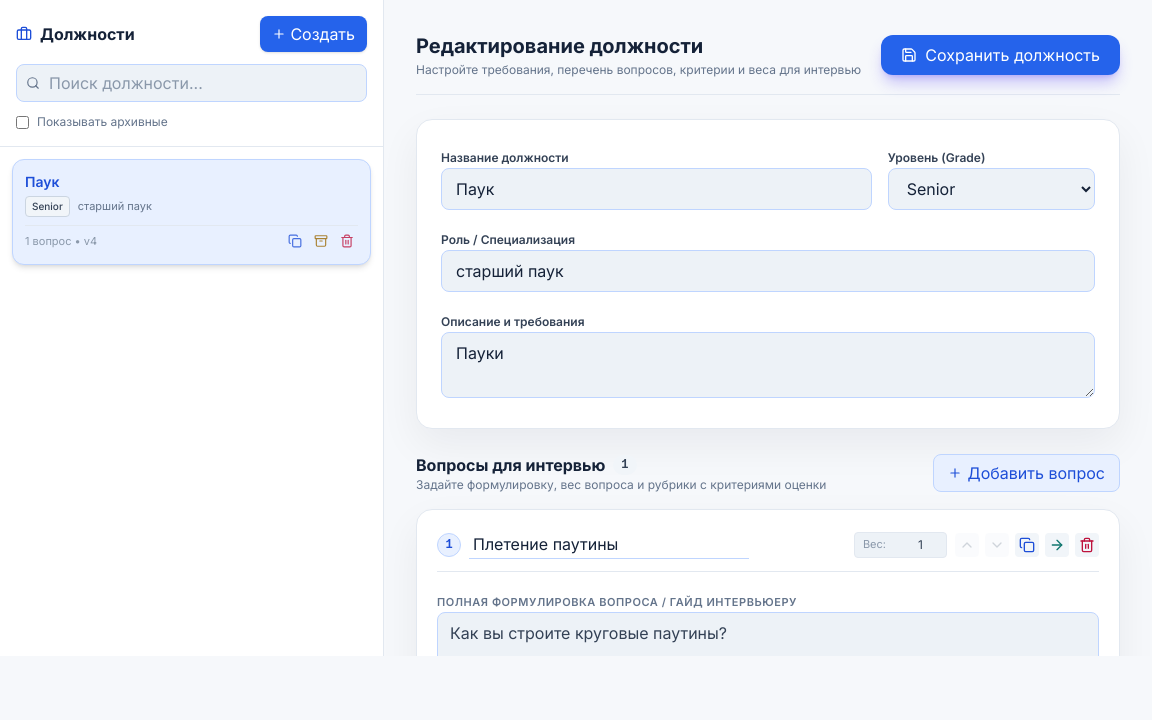
Test: JobTemplatesScreen Component › opens in-app delete modal when clicking trash icon and closes on "Отмена"
This screenshot has width=1152, height=720.
Expected: the heading "Редактирование должности" is shown, [416, 34, 703, 58]
// Click trash can button on card
Click the button titled "Удалить должность".
click(347, 241)  # box [336, 230, 358, 252]
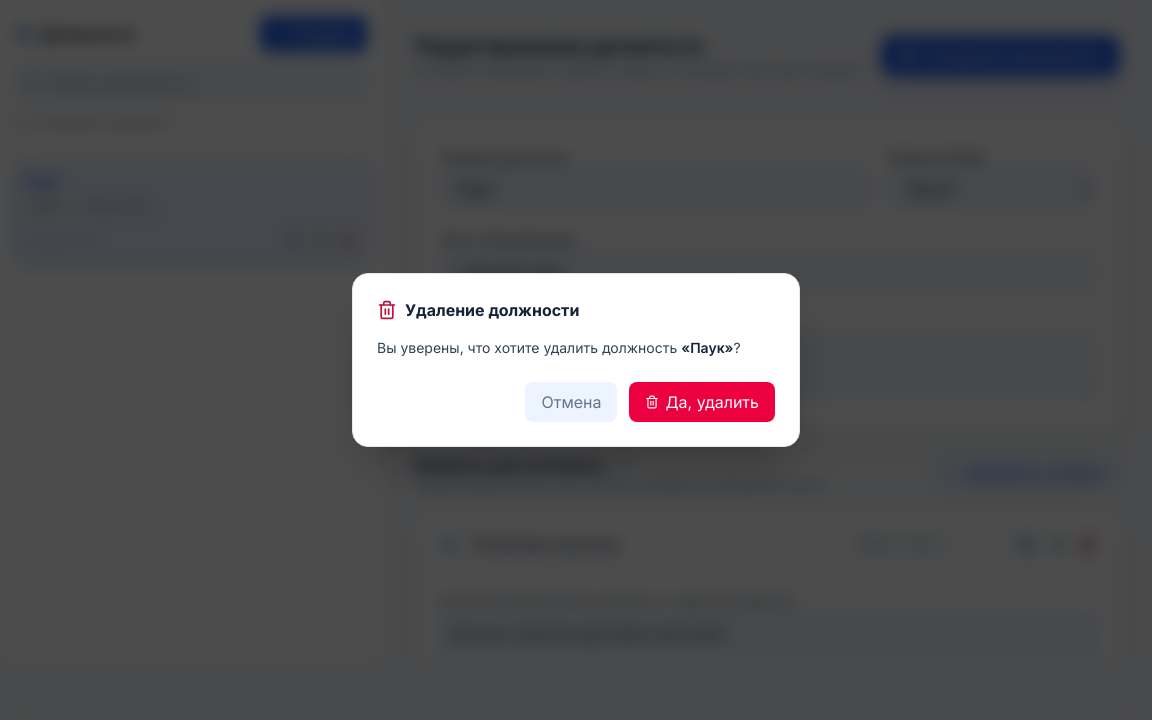
Result: the text "Удаление должности" is shown at [405, 298, 579, 322]
Result: the text "Вы уверены, что хотите удалить должность «Паук»?" is shown at [377, 338, 775, 358]
// Click "Отмена" inside the modal
Click the button "Отмена".
click(571, 402)  # box [525, 382, 617, 422]
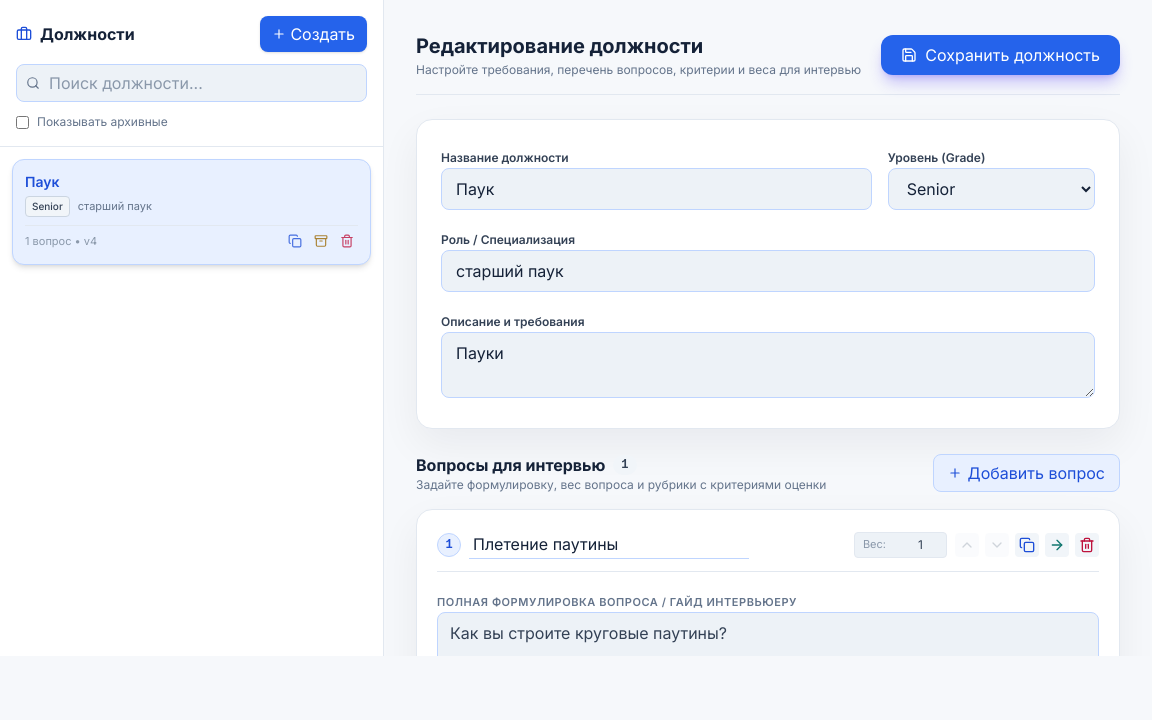
Result: the text "Удаление должности" is gone
